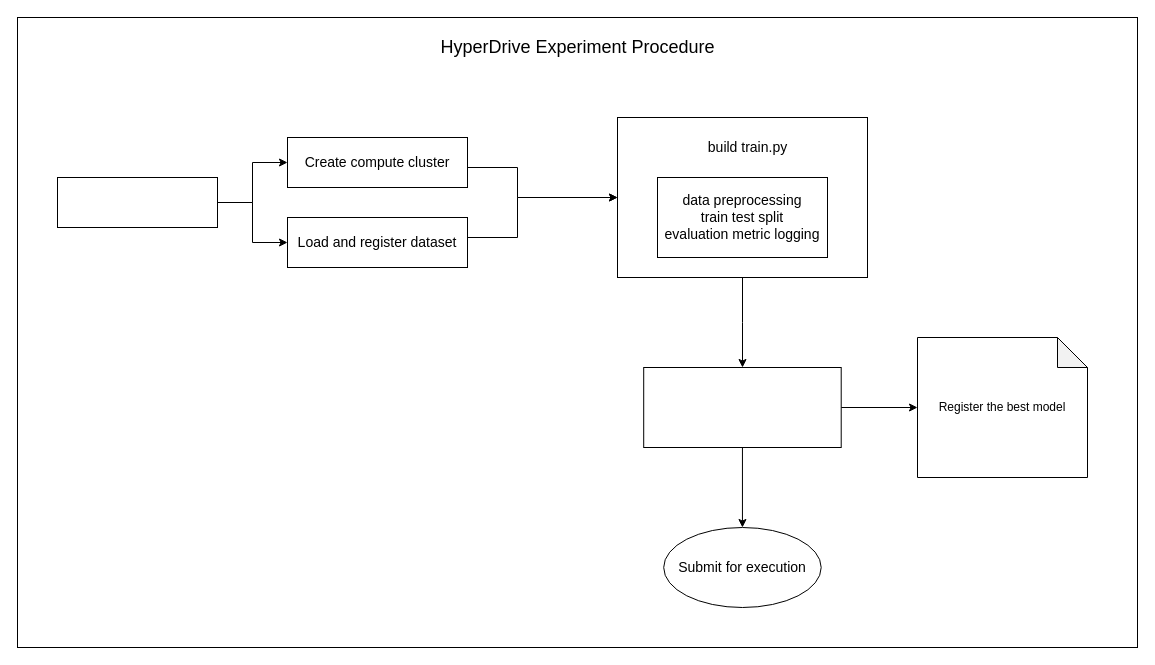
The diagram is 1155 pixels wide and 665 high, and some of its shapes have lost their labels. The shapes that lost their labels are listed below. From the top down, each one's centre as x and y in pixels, then its label:
At point 137,202: "create experiment".
At point 742,407: "Use train.py Create HyperDrive Config".
